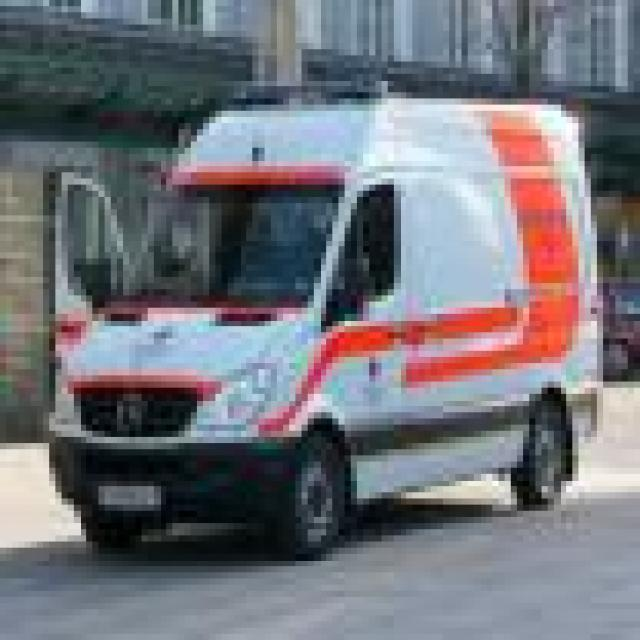emergency-vehicle: (49, 70, 609, 564)
